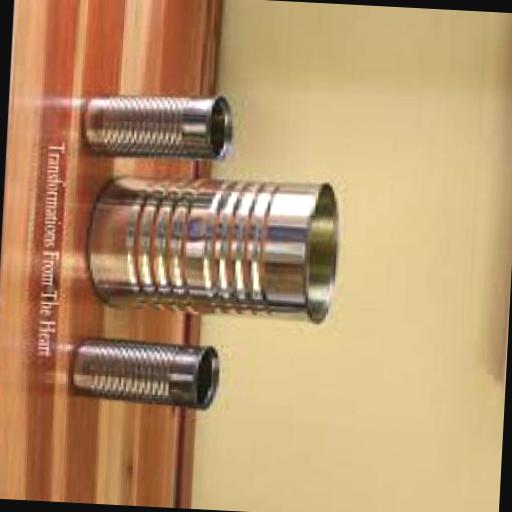metal: (84, 168, 344, 324), (82, 85, 236, 162), (72, 335, 222, 408)
